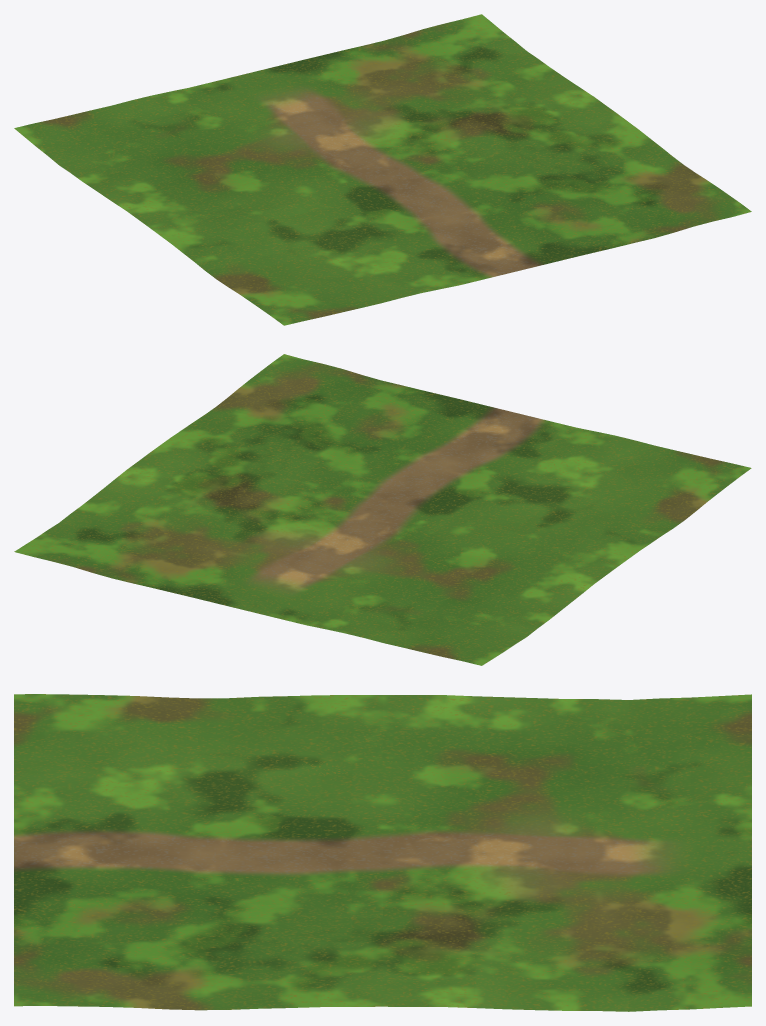
File: ground_patch.glb
3 renders of one model, top to bottom at view 1: azimuth 30°, elevation 25°; view 2: azimuth 150°, elevation 25°; view 3: azimuth 270°, elevation 25°, orthographic. The views are drawn at different scales.
Parts seen in each view (by area): view 1: ground_patch; view 2: ground_patch; view 3: ground_patch.
Boxes of the visible parts, <box> form: ground_patch: <box>14,14,751,325</box>; ground_patch: <box>14,354,751,665</box>; ground_patch: <box>14,694,751,1011</box>.
Bounding box in the file's own units: 30 × 0.2836 × 30.
Materials: 1 (1 with a texture image).
